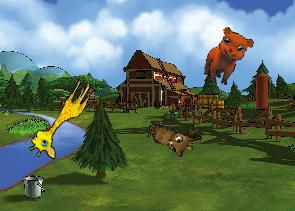bear: (200, 24, 256, 91)
giraffe: (25, 71, 96, 164)
owl: (143, 122, 194, 159)
